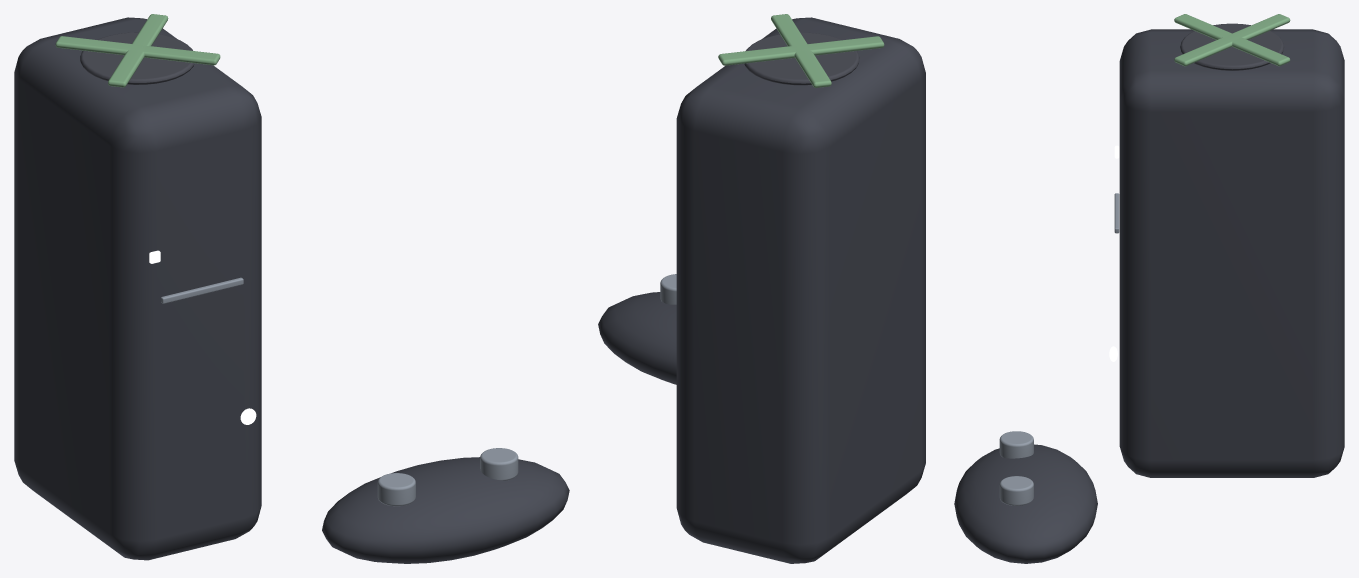
File: consoleXboxX.glb
3 views of the same model, side by side, from view 1: azimuth 30°, elevation 25°; view 2: azimuth 150°, elevation 25°; view 3: azimuth 270°, elevation 25° (orthographic). The views are drawn at different scales.
Parts seen in each view (by area): view 1: Console housing, Controller, Disc cover, Cross logo, Cross logo.001, Controller stick, Controller stick.001; view 2: Console housing, Controller, Disc cover, Cross logo.001, Cross logo, Controller stick.001; view 3: Console housing, Controller, Disc cover, Cross logo, Cross logo.001, Controller stick.001, Controller stick.
Boxes of the visible parts, x1,y1,x2,y2 form: Console housing: (14,17,261,560); Controller: (322,457,569,563); Disc cover: (80,32,194,84); Cross logo: (55,36,220,65); Cross logo.001: (108,14,168,87); Controller stick: (377,473,415,506); Controller stick.001: (480,448,518,480); Console housing: (676,17,925,563); Controller: (598,292,676,384); Disc cover: (744,32,859,85); Cross logo.001: (718,36,884,65); Cross logo: (771,14,831,87); Controller stick.001: (660,274,676,304); Console housing: (1119,29,1344,477); Controller: (954,444,1097,563); Disc cover: (1180,23,1284,70); Cross logo: (1174,14,1290,66); Cross logo.001: (1174,14,1290,66); Controller stick.001: (999,476,1033,505); Controller stick: (999,431,1033,458).
Size of the model in its own units: 1.27 by 1.48 by 1.25.
